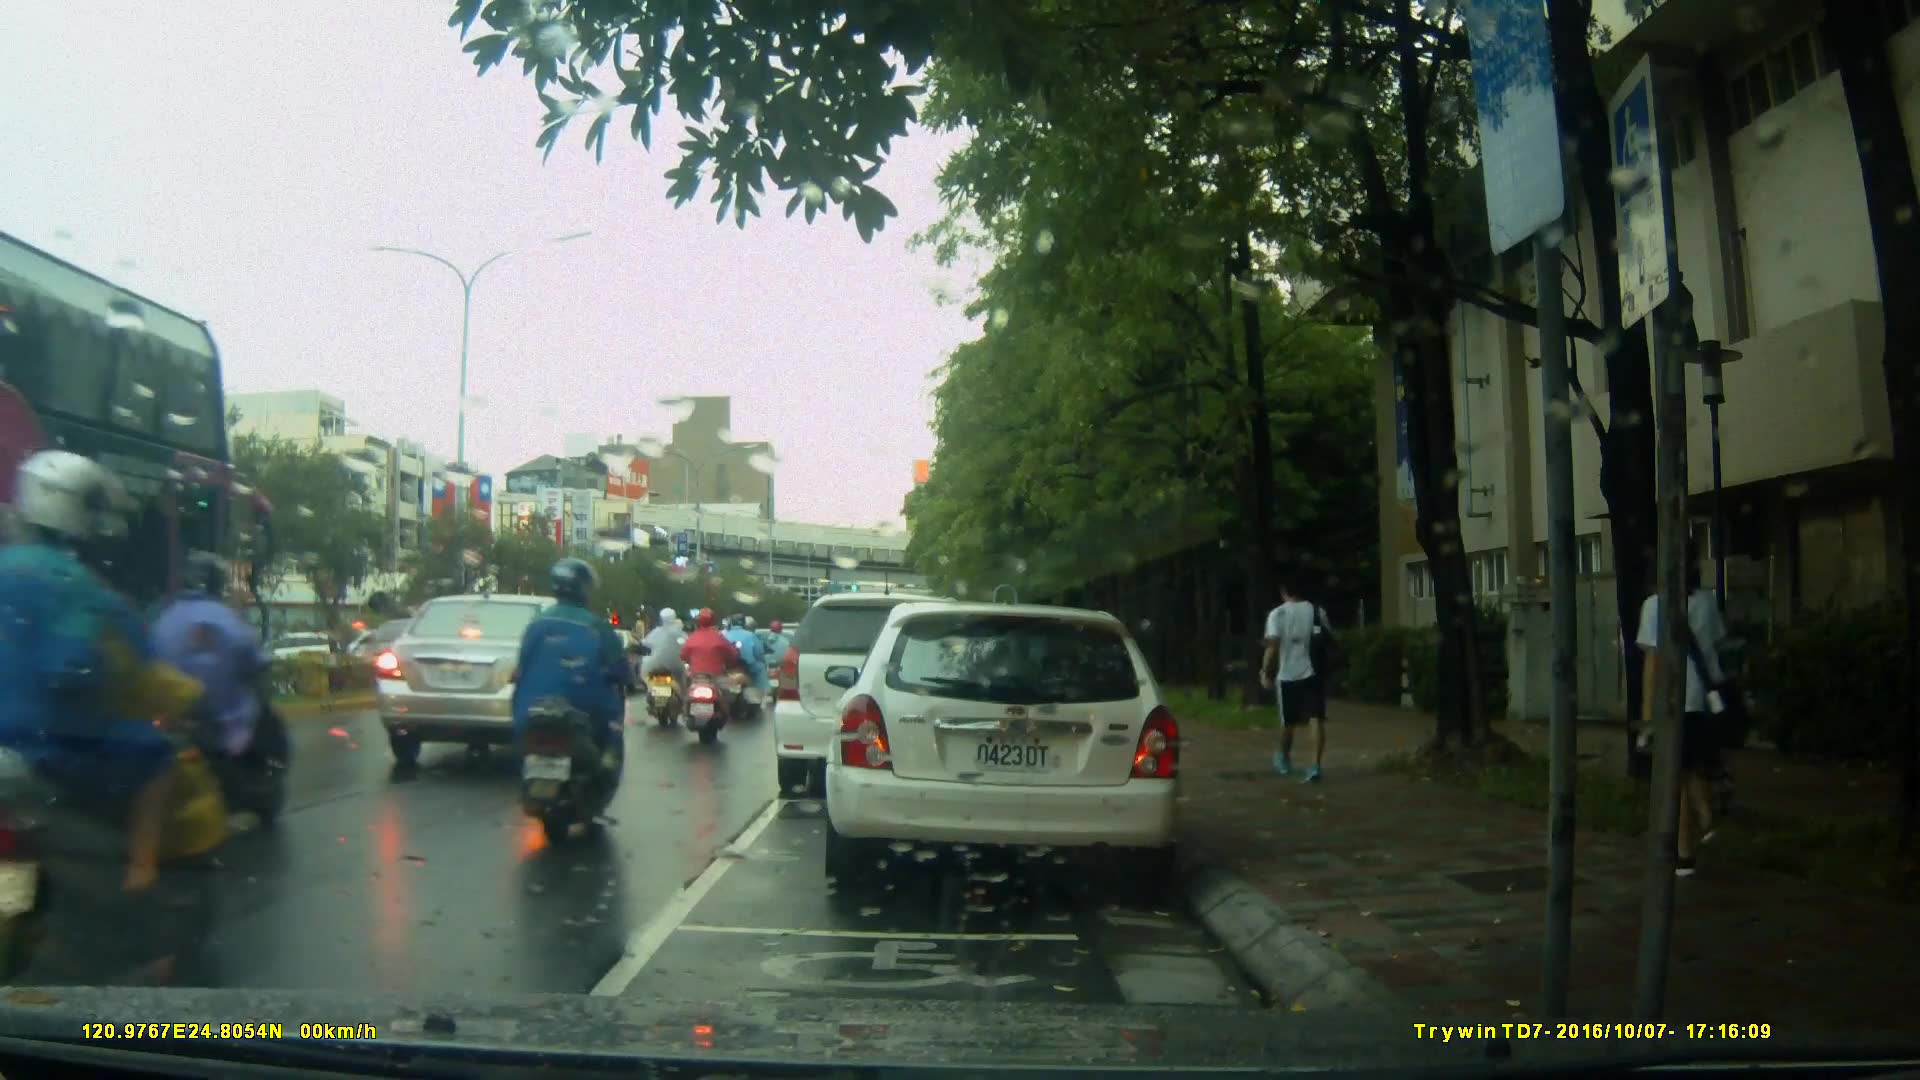pedestrian: (114, 553, 290, 837), (1618, 532, 1737, 889), (1258, 558, 1356, 801)
rider: (1, 453, 259, 1054), (507, 558, 632, 847), (676, 605, 740, 749), (637, 603, 692, 732), (719, 612, 767, 713), (759, 617, 794, 710)
vehicle: (10, 215, 261, 904), (811, 604, 1188, 882), (377, 591, 638, 769), (774, 595, 995, 802)
